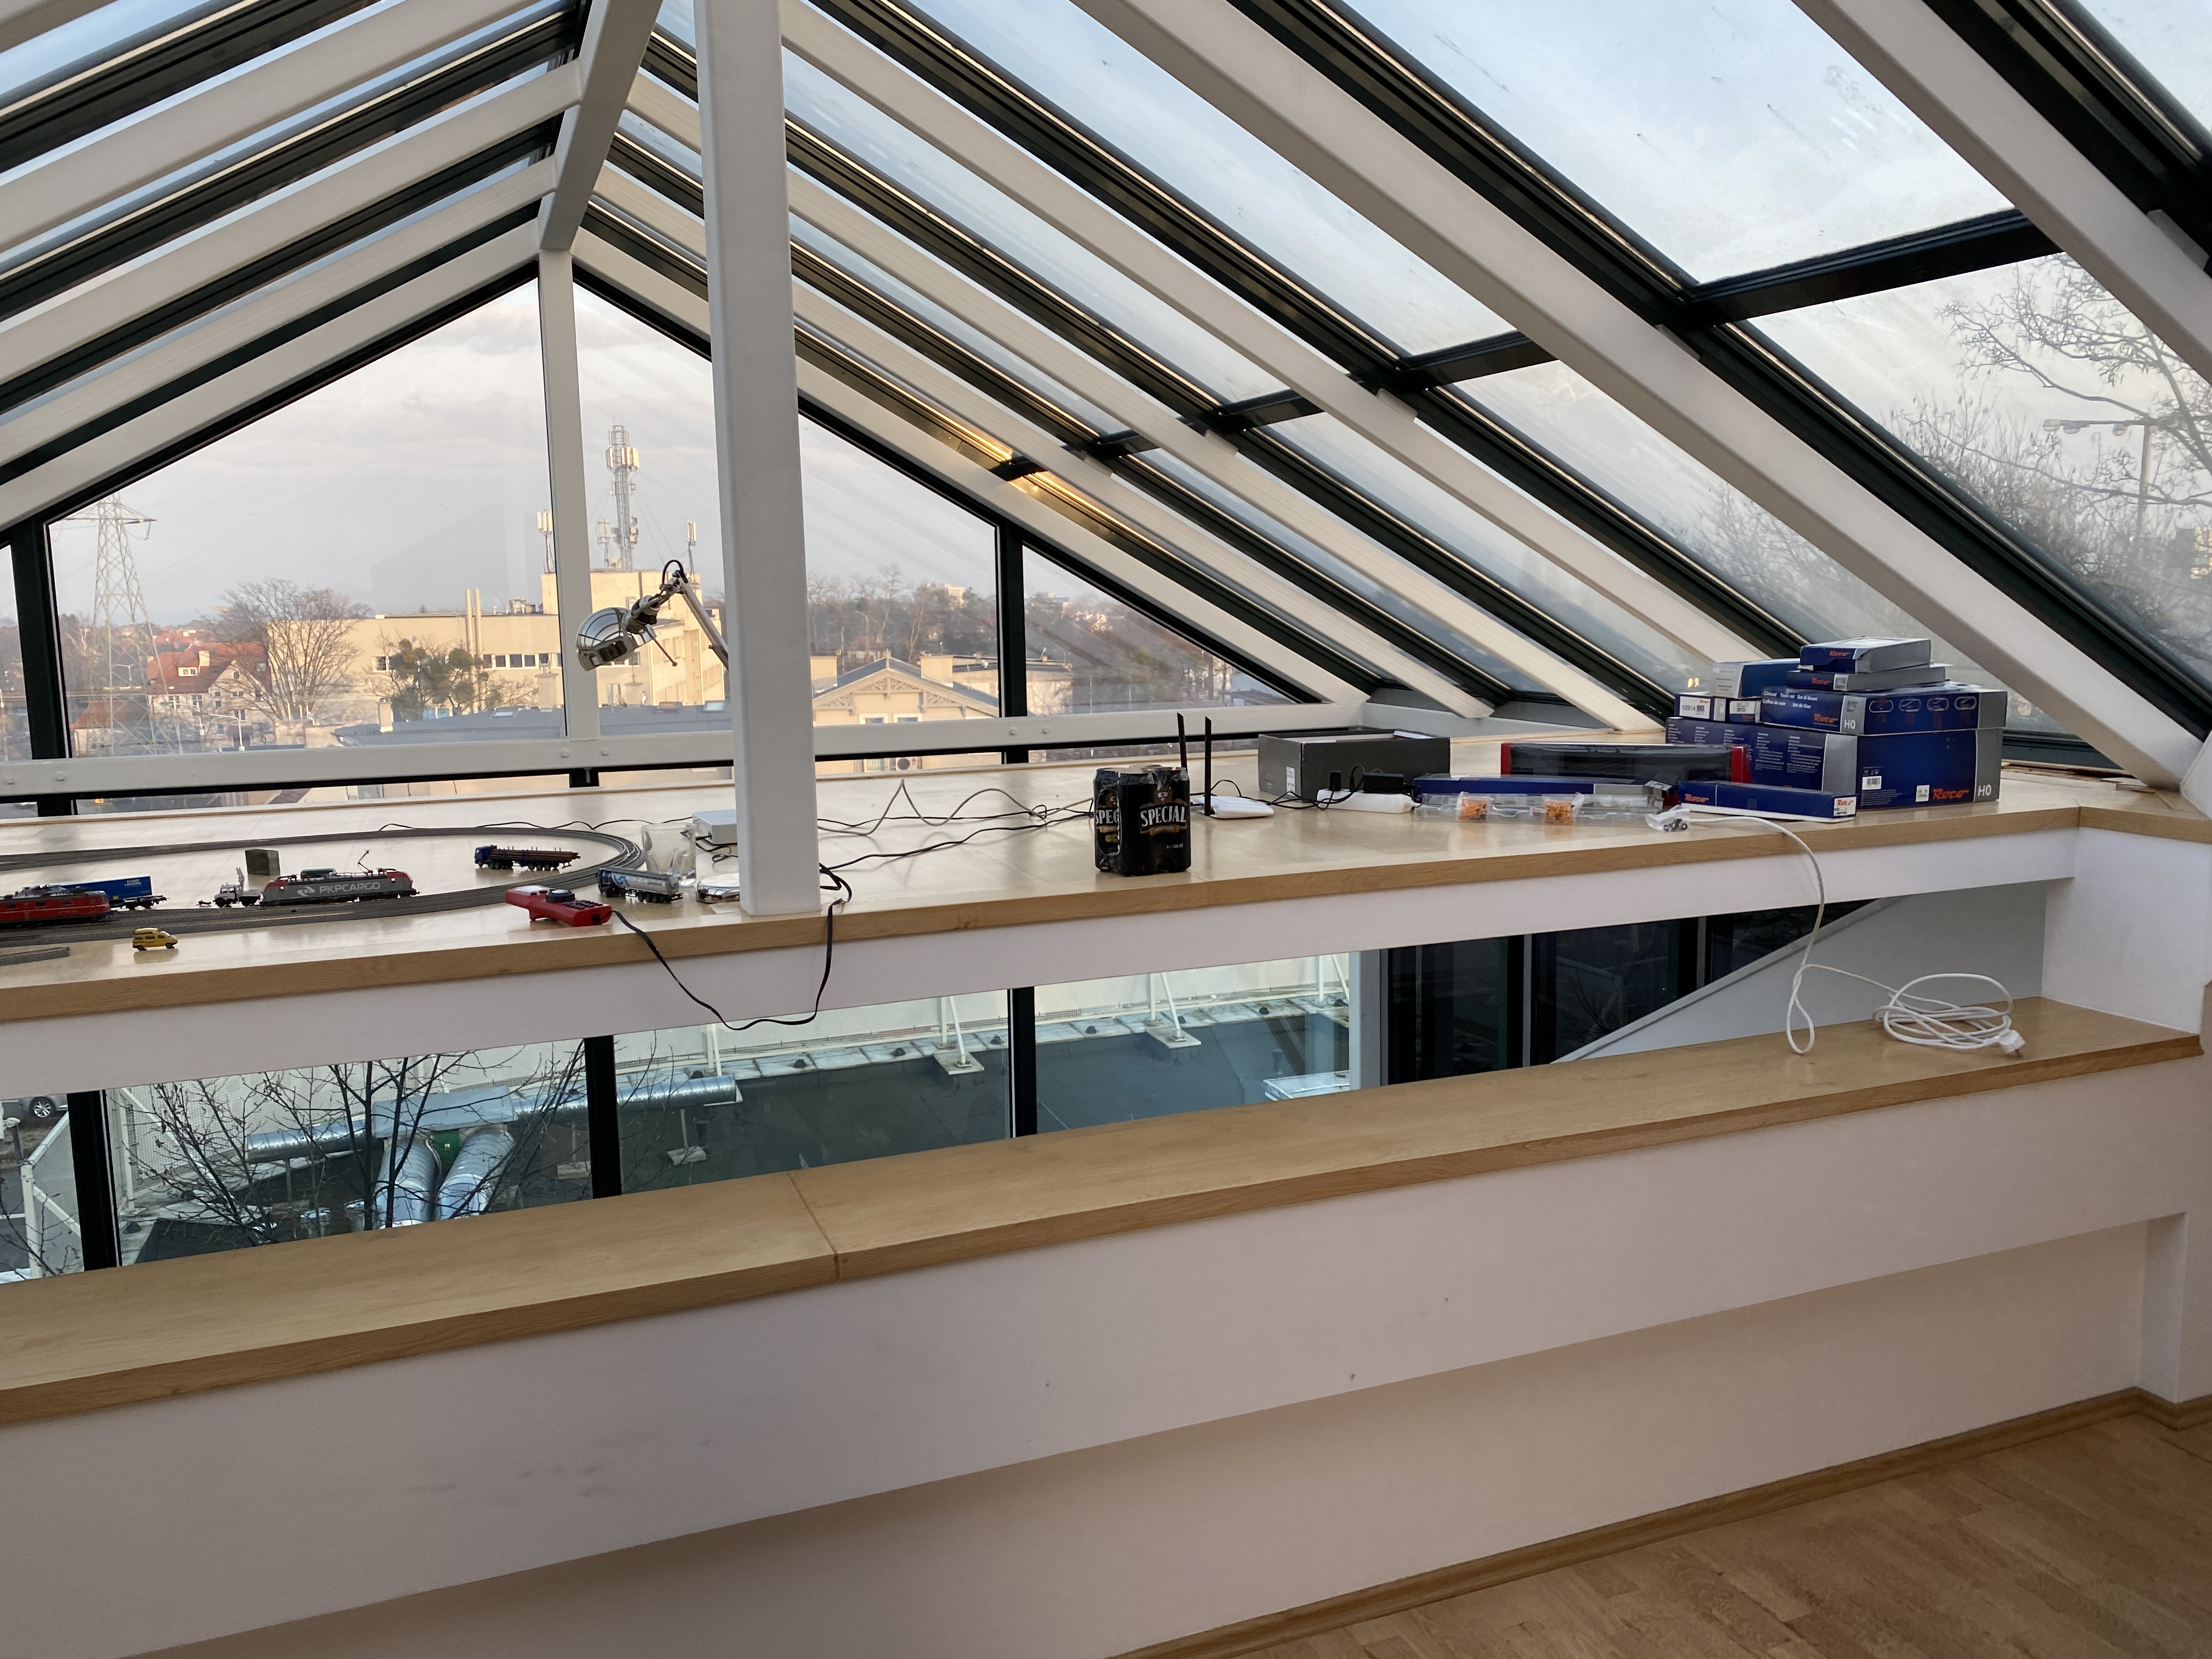specjal: (1096, 765, 1191, 878)
